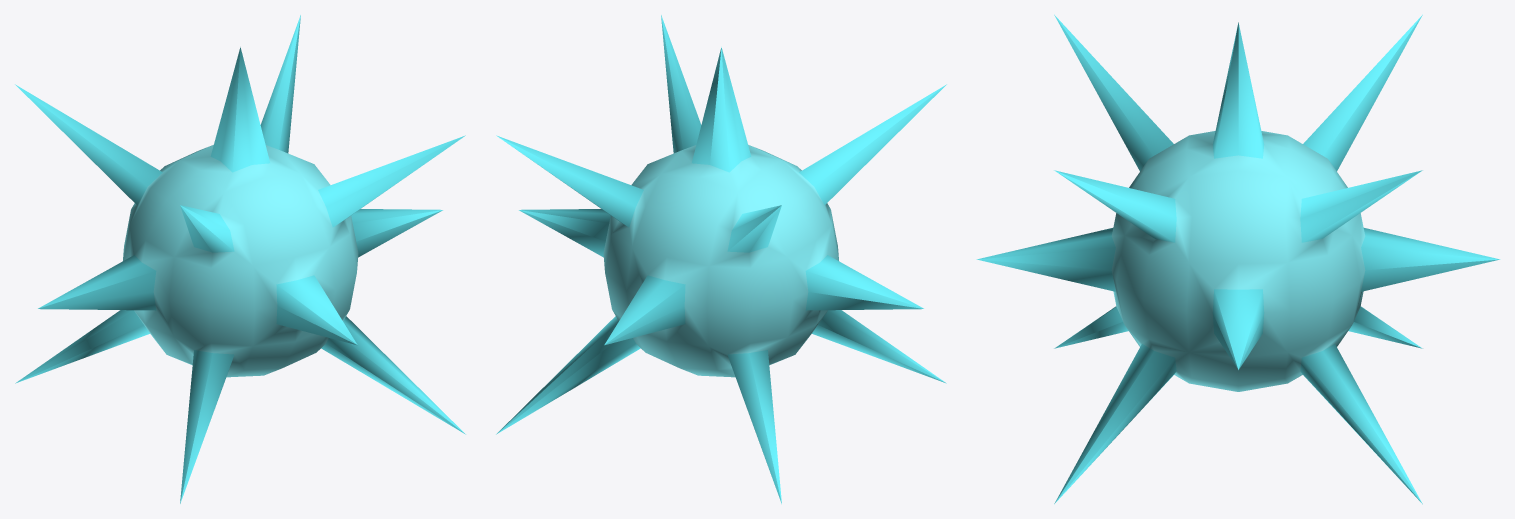
Rendered from IceSpikes.fbx.
3 views of the same model, side by side, from view 1: azimuth 30°, elevation 25°; view 2: azimuth 150°, elevation 25°; view 3: azimuth 270°, elevation 25° (orthographic). The views are drawn at different scales.
Visible parts, largest first — view 1: Cube; view 2: Cube; view 3: Cube.
Boxes of the visible parts, x1,y1,x2,y2 form: Cube: [15, 15, 465, 503]; Cube: [496, 15, 946, 503]; Cube: [976, 14, 1500, 504].
Size of the model in its own units: 336 by 286 by 336.
